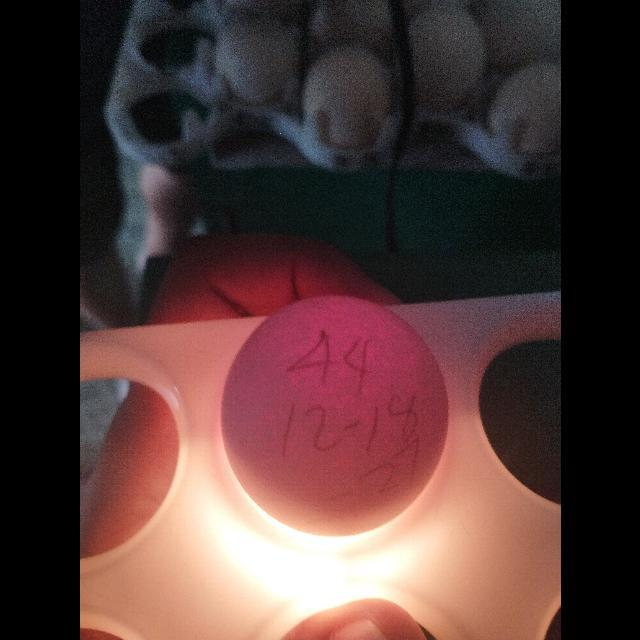Infertile: (218, 290, 452, 542)
